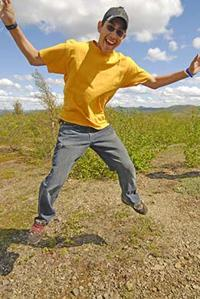person: (1, 1, 198, 243)
